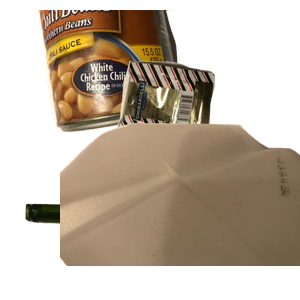glass: (23, 186, 249, 300)
metal: (34, 10, 213, 135)
plastic: (60, 120, 300, 300)
trash: (115, 58, 300, 200)
